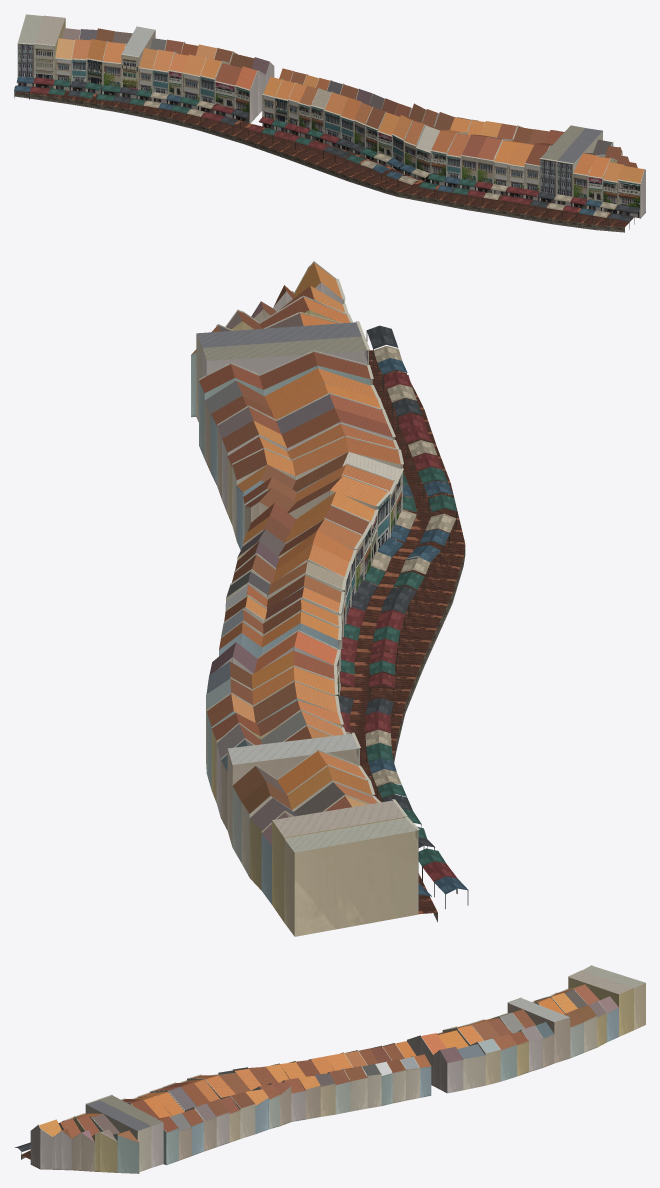
3 renders of one model, top to bottom at view 1: azimuth 30°, elevation 25°; view 2: azimuth 150°, elevation 25°; view 3: azimuth 270°, elevation 25°, orthographic. The views are drawn at different scales.
Parts seen in each view (by area): view 1: Boat Quay riverside shophouses; view 2: Boat Quay riverside shophouses; view 3: Boat Quay riverside shophouses.
Boxes of the visible parts, x1,y1,x2,y2 form: Boat Quay riverside shophouses: (14,14,645,232); Boat Quay riverside shophouses: (191,261,468,936); Boat Quay riverside shophouses: (14,965,645,1173).
Bounding box in the file's own units: 132 × 17.38 × 204.
Materials: 1 (1 with a texture image).
